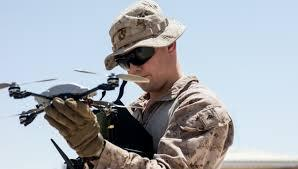drone: (0, 69, 150, 127)
